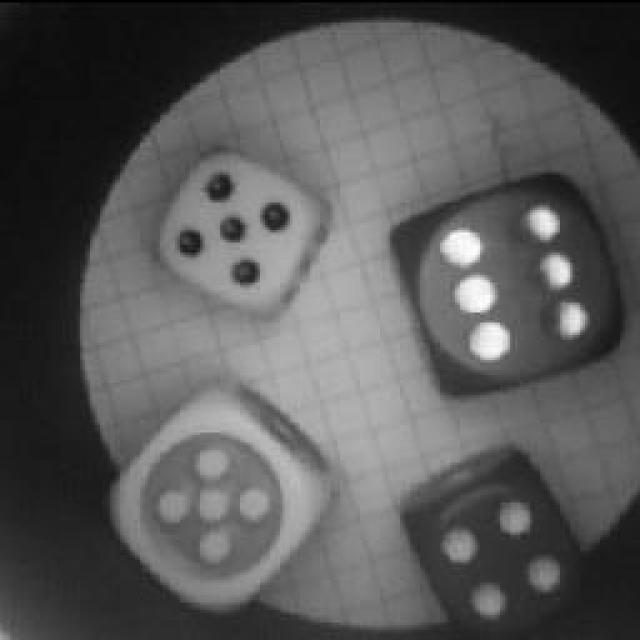dice_4: (400, 452, 595, 640)
dice_5: (102, 382, 330, 612), (148, 148, 330, 318)
dice_6: (390, 177, 632, 395)
